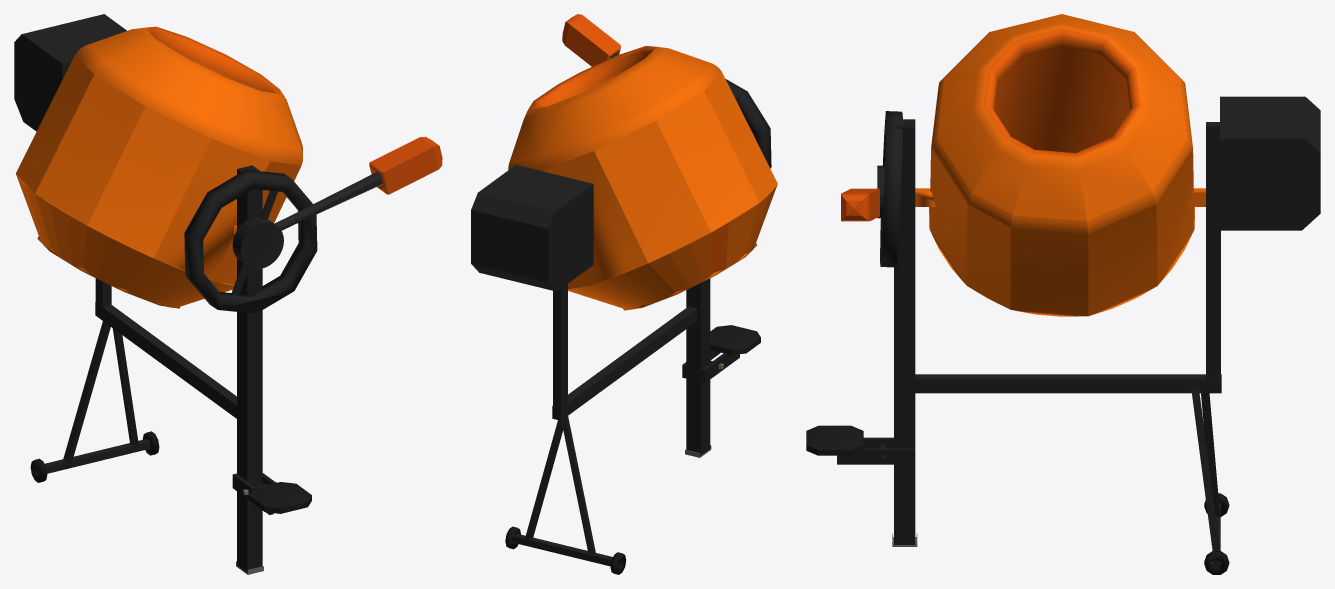
The model's file is karıştırıcı.fbx.
3 views of the same model, side by side, from view 1: azimuth 30°, elevation 25°; view 2: azimuth 150°, elevation 25°; view 3: azimuth 270°, elevation 25° (orthographic). The views are drawn at different scales.
Parts seen in each view (by area): view 1: Küp.002, Küp.001; view 2: Küp.002, Küp.001; view 3: Küp.002, Küp.001.
Boxes of the visible parts, x1,y1,x2,y2 form: Küp.002: [14, 14, 317, 574]; Küp.001: [274, 136, 442, 230]; Küp.002: [471, 46, 777, 574]; Küp.001: [562, 14, 620, 66]; Küp.002: [806, 14, 1320, 574]; Küp.001: [841, 187, 884, 221].
Bounding box in the file's own units: 1444 × 2192 × 2002.
Materials: 1 (1 with a texture image).
